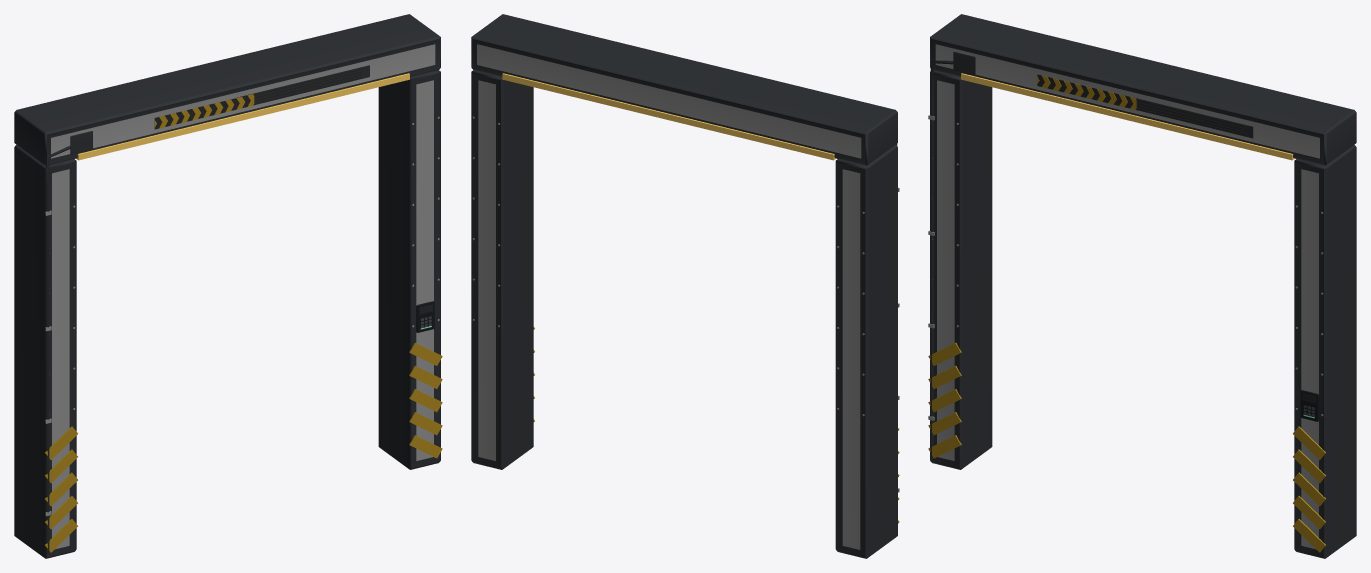
Rendered from DoorFrame_3x3_4.fbx.
The picture shows the model from 3 angles, left to right: view 1: azimuth 30°, elevation 25°; view 2: azimuth 150°, elevation 25°; view 3: azimuth 330°, elevation 25°; orthographic projection.
Parts seen in each view (by area): view 1: DoorFrame_3x3_4_LOD0; view 2: DoorFrame_3x3_4_LOD0; view 3: DoorFrame_3x3_4_LOD0.
Boxes of the visible parts, left/top/right/bottom form: DoorFrame_3x3_4_LOD0: left=14, top=14, right=442, bottom=558; DoorFrame_3x3_4_LOD0: left=471, top=14, right=899, bottom=558; DoorFrame_3x3_4_LOD0: left=928, top=14, right=1356, bottom=558.
Size of what is drawn, in the model's own units: 3.6 by 3.7 by 0.522.
